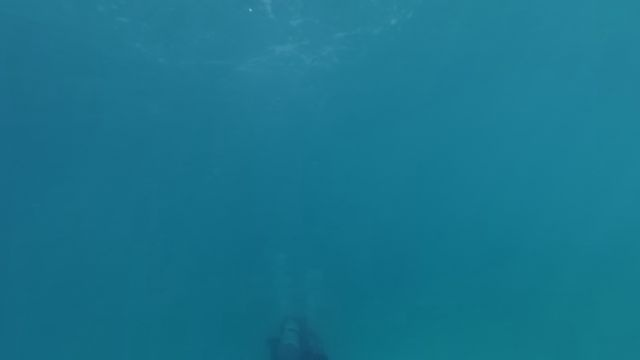Diver: (257, 305, 325, 358)
